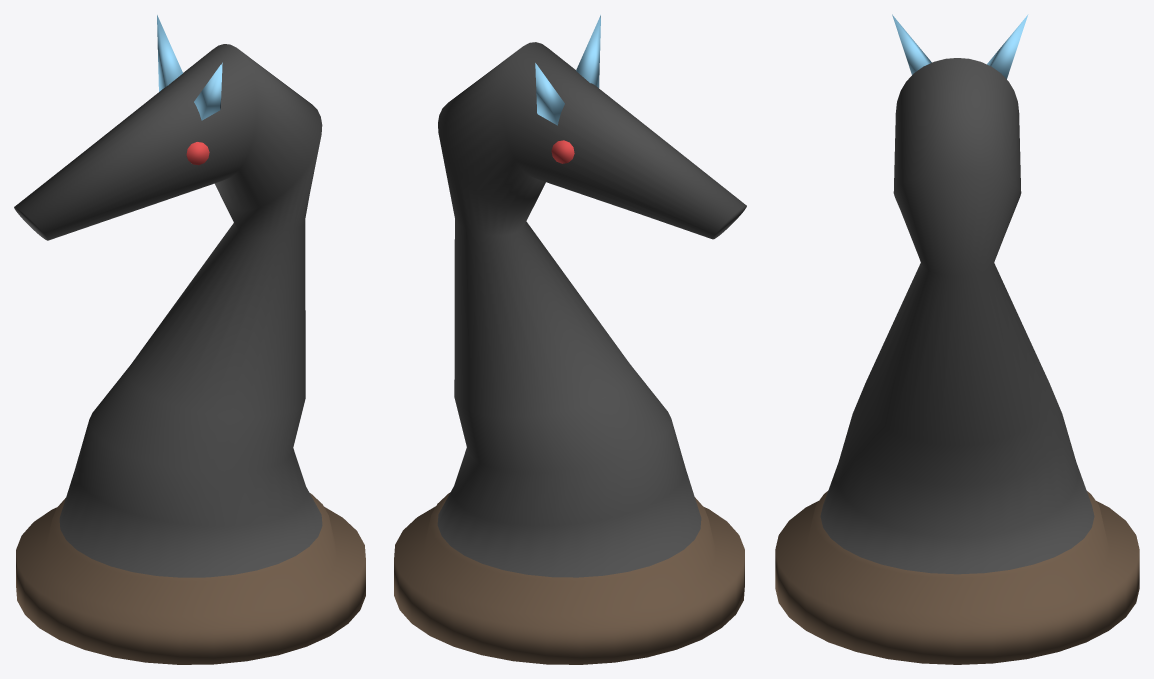
Rendered from Knight.gltf.
3 views of the same model, side by side, from view 1: azimuth 30°, elevation 25°; view 2: azimuth 150°, elevation 25°; view 3: azimuth 270°, elevation 25° (orthographic). The views are drawn at different scales.
Parts seen in each view (by area): view 1: ナイト.001; view 2: ナイト.001; view 3: ナイト.001.
Part boxes in pixels (x1,y1,x2,y2): ナイト.001: (14,15,365,664); ナイト.001: (394,15,746,664); ナイト.001: (775,14,1139,664).
Size of the model in its own units: 0.926 by 1.51 by 0.8681.
Materials: 1 (1 with a texture image).
